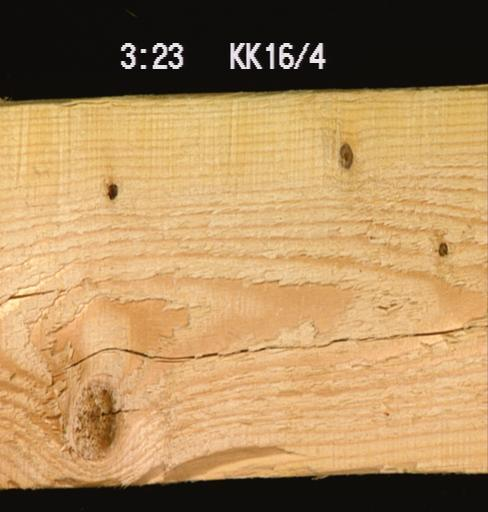small_knot: (434, 238, 449, 259)
sound_knot: (60, 373, 120, 465), (336, 140, 354, 170)
split: (47, 318, 487, 373), (0, 283, 64, 309)
wave: (125, 430, 425, 479)
